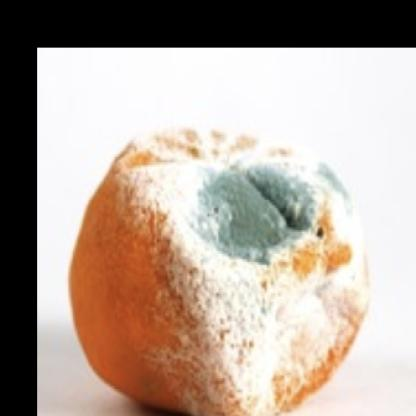rotten: (71, 123, 375, 416)
